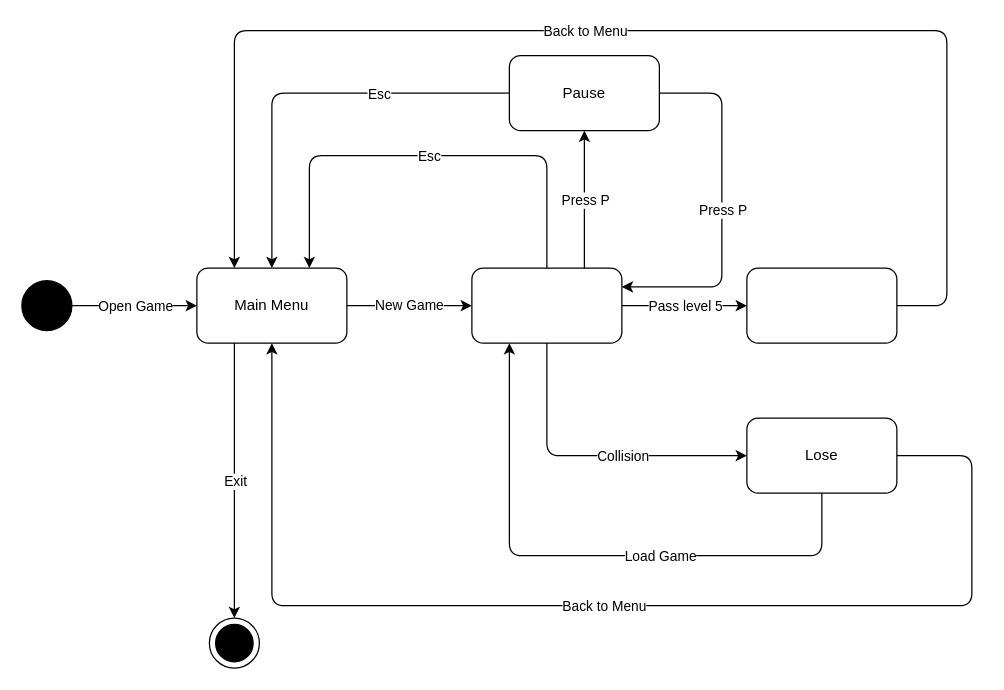
Image size: 1004x690. Some labels were removed from this diagram. Each missing label, with the centre of its shape:
"Play" goes at (546,305).
"Win" goes at (821,305).
